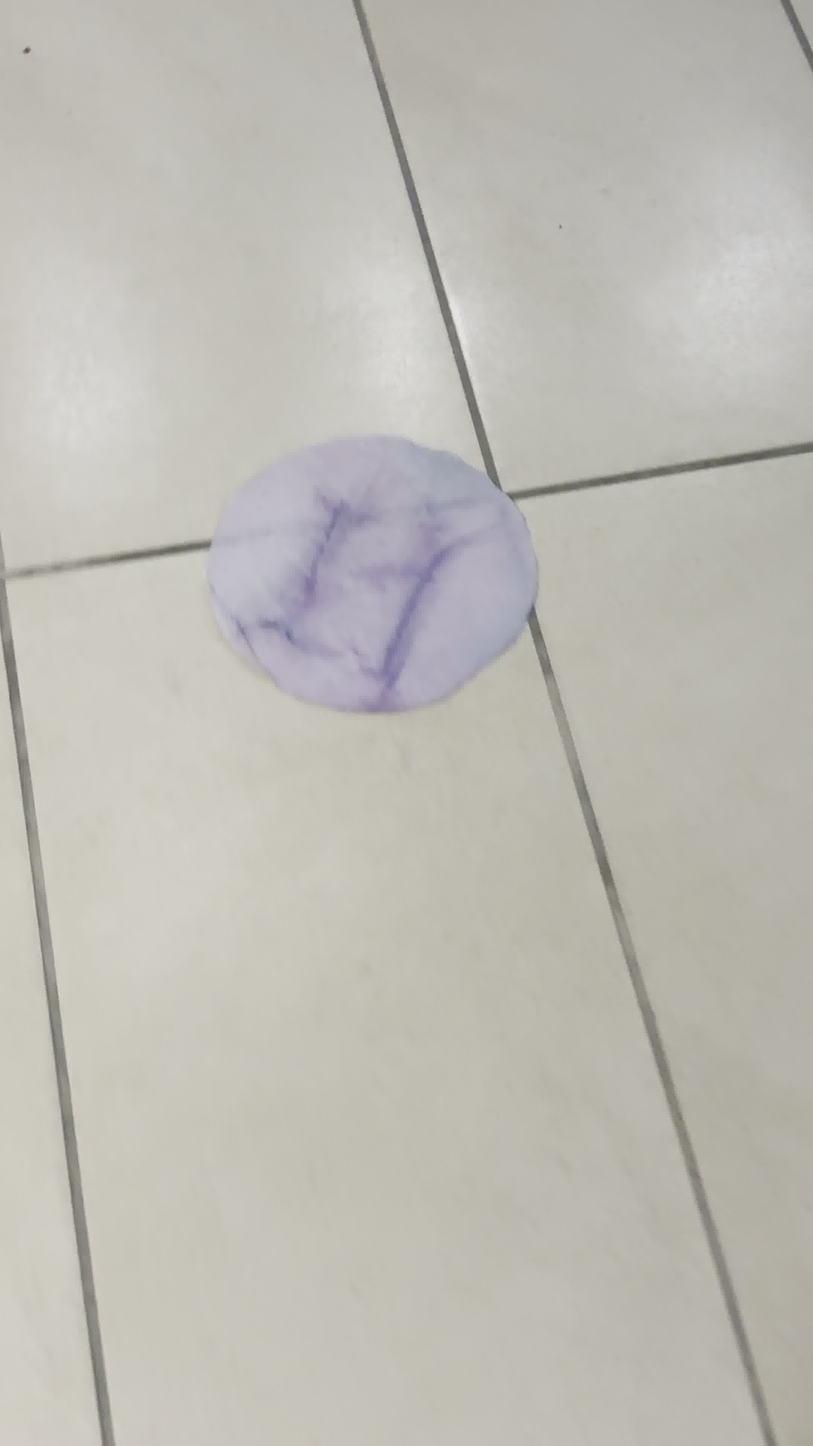Target: (207, 430, 540, 715)
